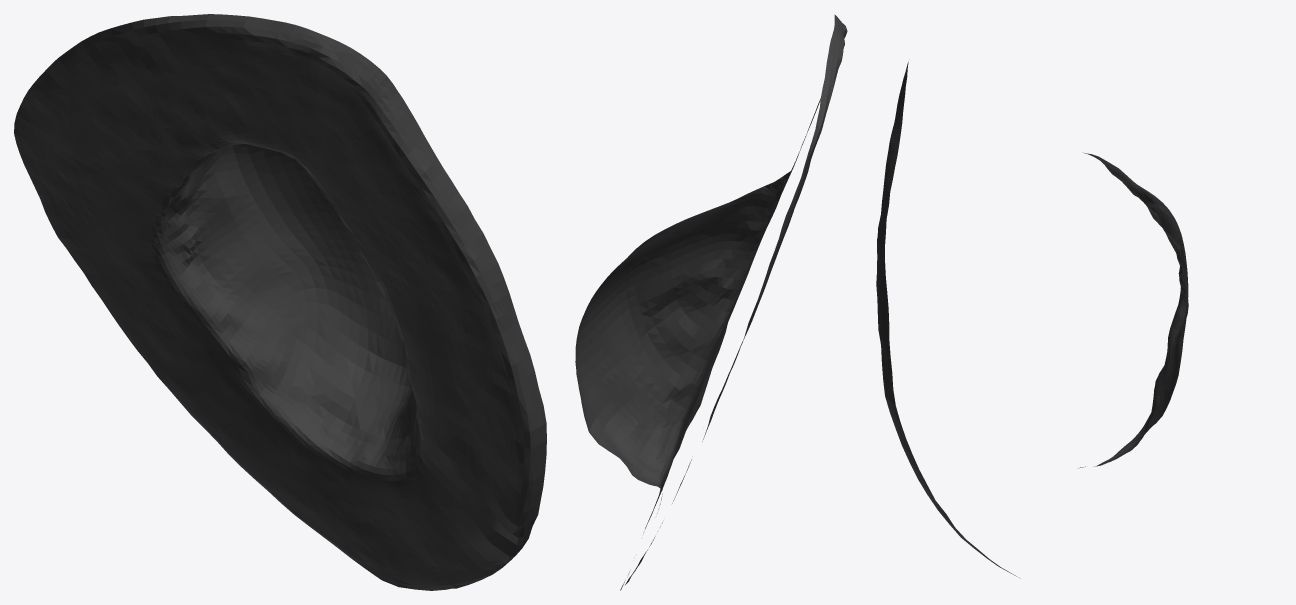
3 views of the same model, side by side, from view 1: azimuth 30°, elevation 25°; view 2: azimuth 150°, elevation 25°; view 3: azimuth 270°, elevation 25° (orthographic). The views are drawn at different scales.
Parts seen in each view (by area): view 1: Group53824; view 2: Group53824; view 3: Group53824.
Boxes of the visible parts, x1,y1,x2,y2 form: Group53824: [14, 14, 546, 590]; Group53824: [575, 14, 847, 590]; Group53824: [876, 61, 1188, 577].
Bounding box in the file's own units: 0.2366 × 0.4812 × 0.3495.
Materials: 1 (1 with a texture image).
